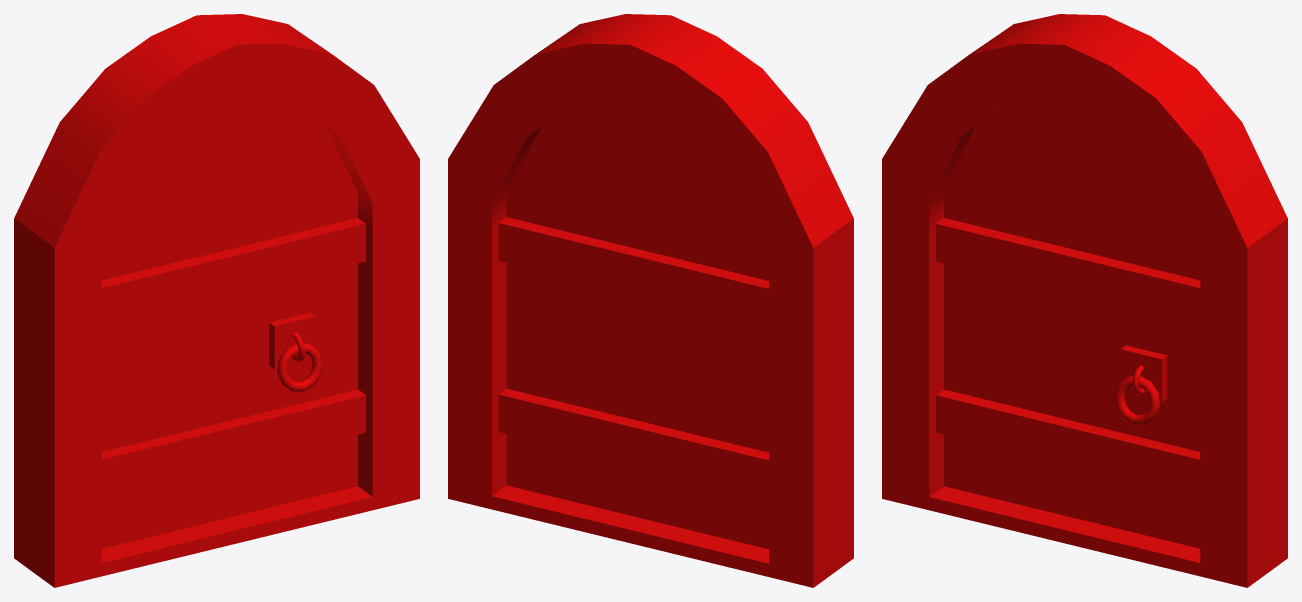
File: m_shopdoor.fbx
The picture shows the model from 3 angles, left to right: view 1: azimuth 30°, elevation 25°; view 2: azimuth 150°, elevation 25°; view 3: azimuth 330°, elevation 25°; orthographic projection.
Visible parts, largest first — view 1: m_shopdoor; view 2: m_shopdoor; view 3: m_shopdoor.
Part boxes in pixels (box(x1,y1,x2,y2)): m_shopdoor: box(14, 14, 419, 587); m_shopdoor: box(448, 14, 853, 587); m_shopdoor: box(882, 14, 1287, 587).
Size of the model in its own units: 2.25 by 2.93 by 0.4317.
